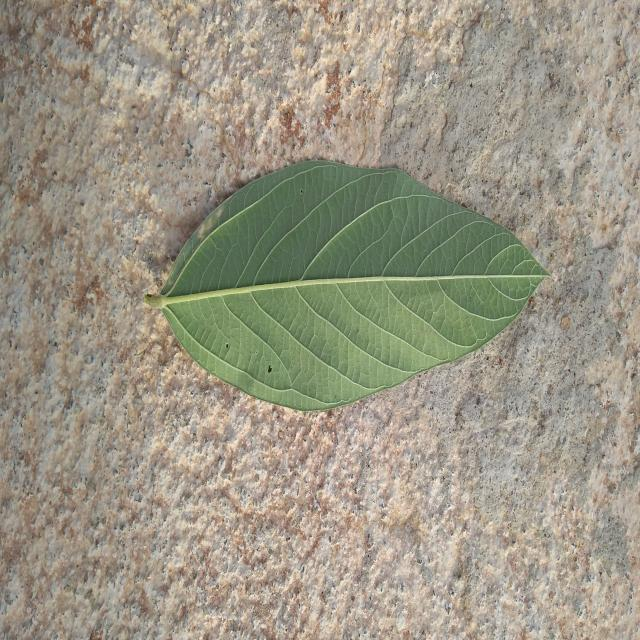pea: (145, 162, 548, 411)
